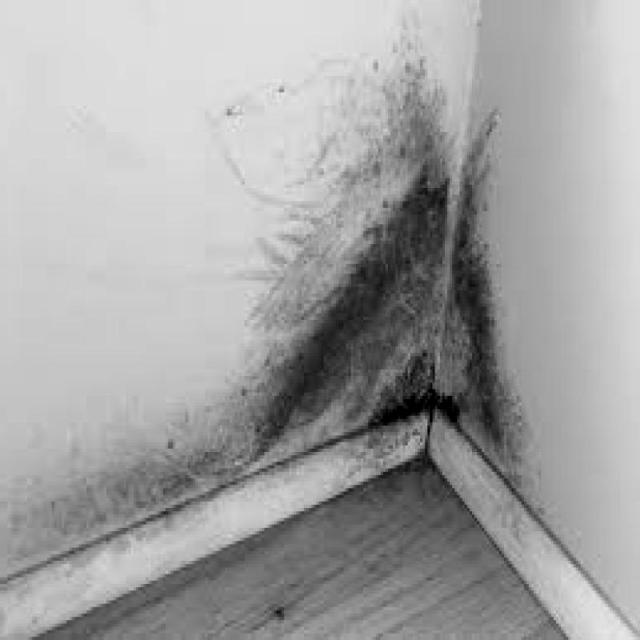stain marks: (2, 39, 544, 621)
